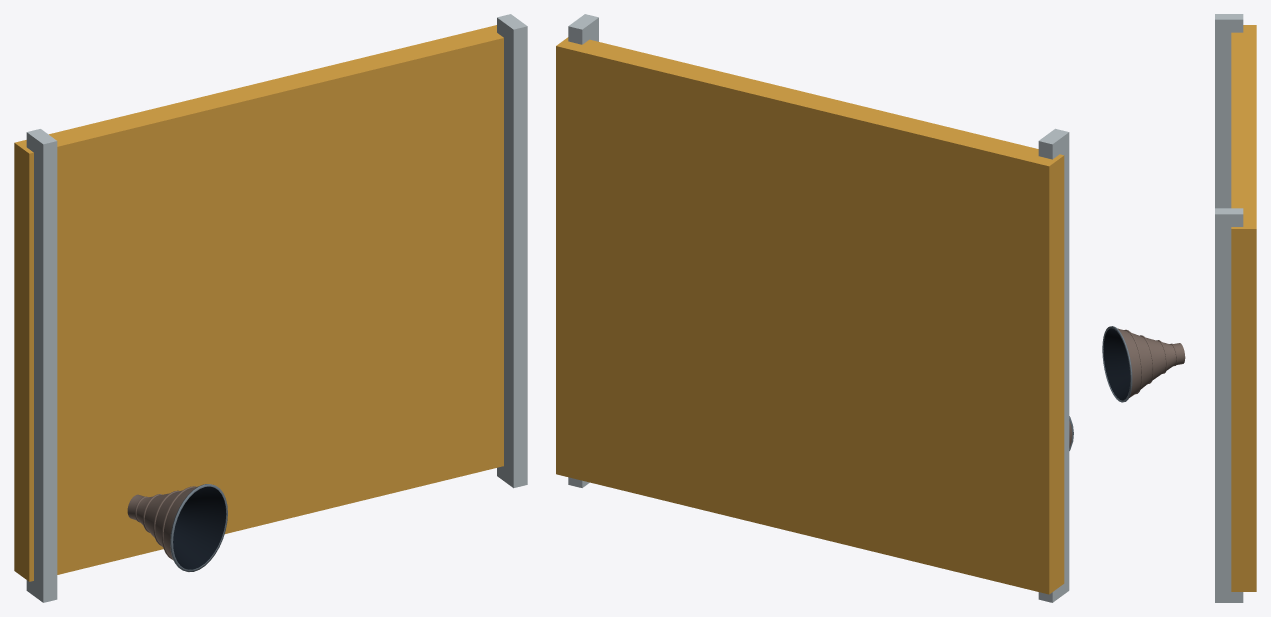
File: voyager_bus.equipment_bay_04.glb
3 views of the same model, side by side, from view 1: azimuth 30°, elevation 25°; view 2: azimuth 150°, elevation 25°; view 3: azimuth 270°, elevation 25° (orthographic). The views are drawn at different scales.
Parts seen in each view (by area): view 1: voyager_bus.equipment_bay_04.mesh_Gold_thermal_insulation, voyager_bus.equipment_bay_04.mesh_Satin_aluminum, voyager_bus.equipment_bay_04.attitude_thruster.bell.mesh_Sha, voyager_bus.equipment_bay_04.attitude_thruster.bell.mesh_Hea; view 2: voyager_bus.equipment_bay_04.mesh_Gold_thermal_insulation, voyager_bus.equipment_bay_04.mesh_Satin_aluminum; view 3: voyager_bus.equipment_bay_04.mesh_Gold_thermal_insulation, voyager_bus.equipment_bay_04.mesh_Satin_aluminum, voyager_bus.equipment_bay_04.attitude_thruster.bell.mesh_Hea, voyager_bus.equipment_bay_04.attitude_thruster.bell.mesh_Sha, voyager_bus.equipment_bay_04.attitude_thruster.bell.mesh_Mac.
Part boxes in pixels (bbox=[...]): voyager_bus.equipment_bay_04.mesh_Gold_thermal_insulation: bbox=[14, 25, 503, 581]; voyager_bus.equipment_bay_04.mesh_Satin_aluminum: bbox=[26, 14, 527, 602]; voyager_bus.equipment_bay_04.attitude_thruster.bell.mesh_Sha: bbox=[173, 486, 225, 569]; voyager_bus.equipment_bay_04.attitude_thruster.bell.mesh_Hea: bbox=[127, 486, 197, 560]; voyager_bus.equipment_bay_04.mesh_Gold_thermal_insulation: bbox=[556, 37, 1064, 594]; voyager_bus.equipment_bay_04.mesh_Satin_aluminum: bbox=[568, 14, 1069, 602]; voyager_bus.equipment_bay_04.mesh_Gold_thermal_insulation: bbox=[1231, 25, 1256, 591]; voyager_bus.equipment_bay_04.mesh_Satin_aluminum: bbox=[1215, 14, 1243, 602]; voyager_bus.equipment_bay_04.attitude_thruster.bell.mesh_Hea: bbox=[1117, 328, 1185, 397]; voyager_bus.equipment_bay_04.attitude_thruster.bell.mesh_Sha: bbox=[1103, 328, 1130, 400]; voyager_bus.equipment_bay_04.attitude_thruster.bell.mesh_Mac: bbox=[1102, 326, 1132, 402].
Size of the model in its own units: 0.493 by 0.438 by 0.1576.
